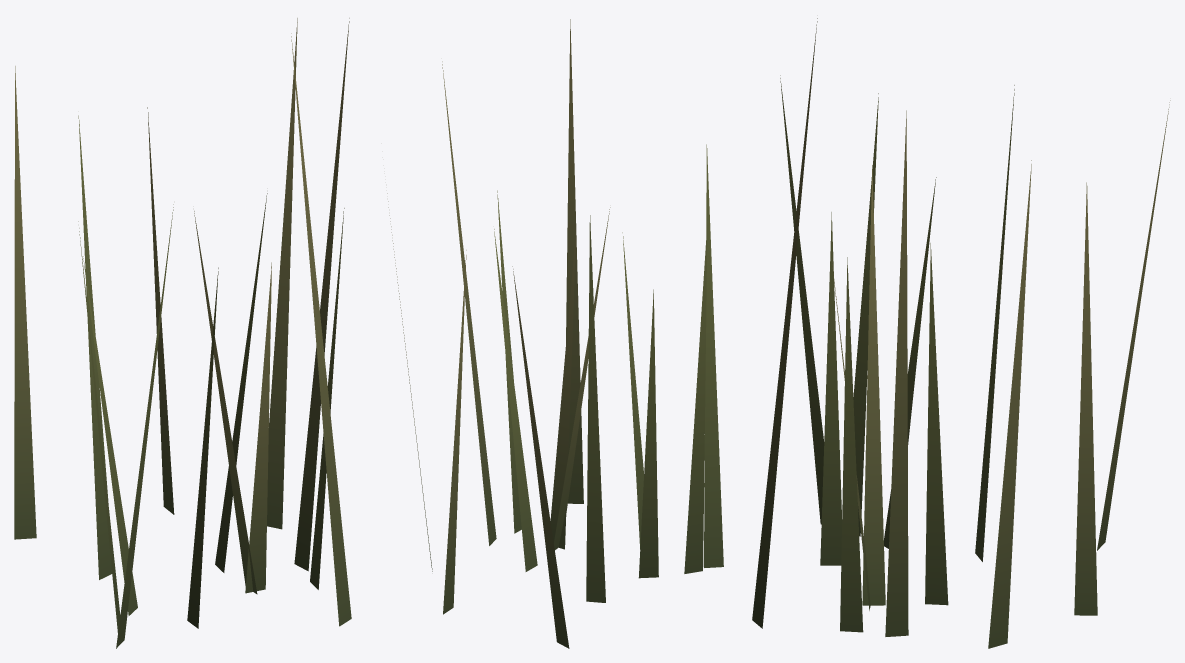
Rendered from env_reeds.glb.
The picture shows the model from 3 angles, left to right: view 1: azimuth 30°, elevation 25°; view 2: azimuth 150°, elevation 25°; view 3: azimuth 270°, elevation 25°; orthographic projection. The views are drawn at different scales.
Parts seen in each view (by area): view 1: env_reeds; view 2: env_reeds; view 3: env_reeds.
Boxes of the visible parts, left/top/right/bottom form: env_reeds: left=14, top=18, right=351, bottom=648; env_reeds: left=387, top=19, right=723, bottom=648; env_reeds: left=752, top=18, right=1170, bottom=648.
Bounding box in the file's own units: 0.8982 × 1.69 × 1.07.
